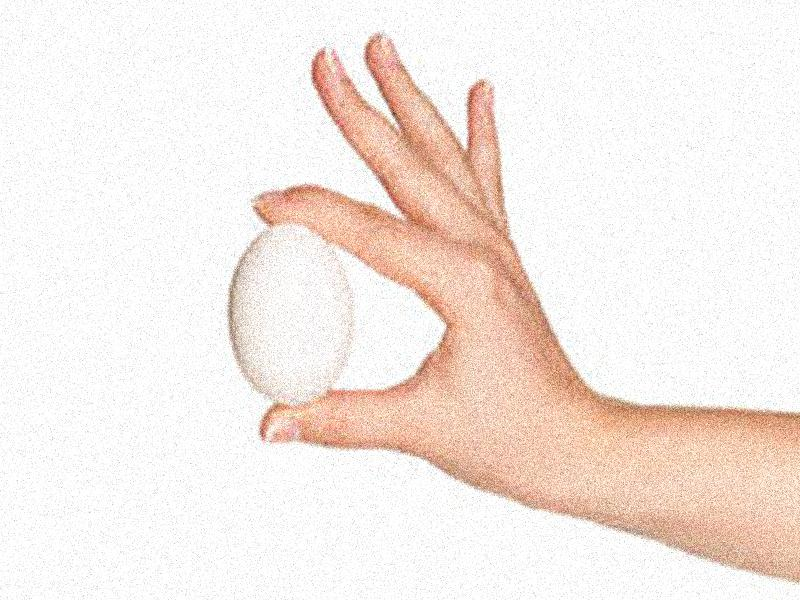Eggs: (225, 221, 354, 405)
